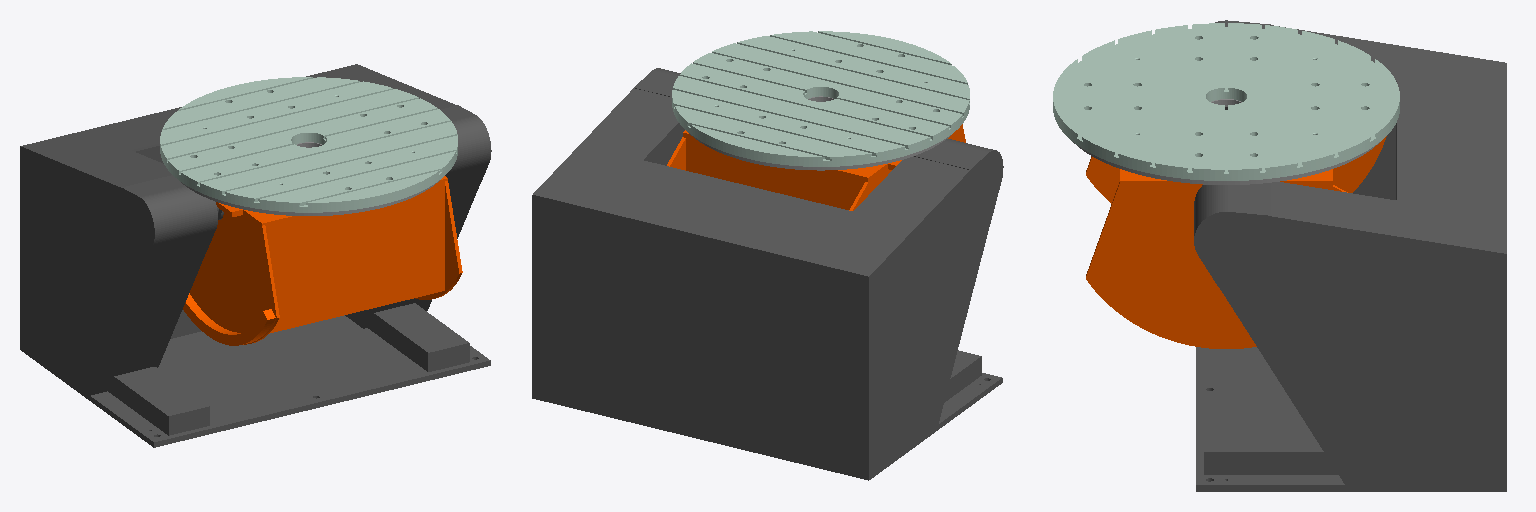
URDF robot description (mimic_master):
<?xml version="1.0" ?>
<!-- =================================================================================== -->
<!-- |    This document was autogenerated by xacro from src/mimic_support/urdf/master.xacro | -->
<!-- |    EDITING THIS FILE BY HAND IS NOT RECOMMENDED                                 | -->
<!-- =================================================================================== -->
<robot name="mimic_master">
  <!-- LINKS -->
  <link name="positioner_frame">
    <visual>
      <origin rpy="0 0 0" xyz="0 0 0"/>
      <geometry>
        <mesh filename="package://mimic_support/meshes/visual/positioner_fixed_nx.dae"/>
      </geometry>
    </visual>
    <collision>
      <origin rpy="0 0 0" xyz="0 0 0"/>
      <geometry>
        <mesh filename="package://mimic_support/meshes/collision/positioner_fixed_nx.stl"/>
      </geometry>
    </collision>
  </link>
  <link name="e1">
    <inertial>
      <origin rpy="0 0 0" xyz="0 0 0"/>
      <mass value="2"/>
      <inertia ixx="0.01" ixy="0" ixz="0" iyy="0.01" iyz="0" izz="0.01"/>
    </inertial>
    <visual>
      <origin rpy="0 0 0" xyz="0 0 0"/>
      <geometry>
        <mesh filename="package://mimic_support/meshes/visual/e1_nx.dae"/>
      </geometry>
    </visual>
    <collision>
      <origin rpy="0 0 0" xyz="0 0 0"/>
      <geometry>
        <mesh filename="package://mimic_support/meshes/collision/e1_nx.stl"/>
      </geometry>
    </collision>
  </link>
  <link name="e2">
    <inertial>
      <origin rpy="0 0 0" xyz="0 0 0"/>
      <mass value="2"/>
      <inertia ixx="0.01" ixy="0" ixz="0" iyy="0.01" iyz="0" izz="0.01"/>
    </inertial>
    <visual>
      <origin rpy="0 0 0" xyz="0 0 0"/>
      <geometry>
        <mesh filename="package://mimic_support/meshes/visual/e2_nx.dae"/>
      </geometry>
    </visual>
    <collision>
      <origin rpy="0 0 0" xyz="0 0 0"/>
      <geometry>
        <mesh filename="package://mimic_support/meshes/collision/e2_nx.stl"/>
      </geometry>
    </collision>
  </link>
  <!-- JOINTS -->
  <!-- joint e1 (E1) -->
  <joint name="joint_e1" type="revolute">
    <origin rpy="0 0 0" xyz="0.0 0.0 0.0"/>
    <parent link="positioner_frame"/>
    <child link="e1"/>
    <axis xyz="1 0 0"/>
    <limit effort="21.9" lower="-0.04363323129985824" upper="2.050761871093337" velocity="0.714"/>
  </joint>
  <joint name="joint_e2" type="revolute">
    <origin rpy="0 0 0" xyz="0 0 0"/>
    <parent link="e1"/>
    <child link="e2"/>
    <axis xyz="0 0 1"/>
    <limit effort="21.9" lower="-31.41592653589793" upper="31.41592653589793" velocity="0.2575"/>
  </joint>
  <!-- colours based on RAL values given in "FAQ - Colours of robot and robot
       controller", version "KUKA.Tifs | 2010-01-21 |YM| DefaultColorsRobotAndController.doc",
       downloaded 2015-07-18 from
       http://www.kuka.be/main/cservice/faqs/hardware/DefaultColorsRobotAndController.pdf

       all RAL colours converted using http://www.visual-graphics.de/en/customer-care/ral-colours
  -->
  <!-- LINKS -->
  <!-- base link -->
  <link name="base_link">
    <inertial>
      <origin rpy="0 0 0" xyz="0 0 0"/>
      <mass value="2"/>
      <inertia ixx="0.01" ixy="0" ixz="0" iyy="0.01" iyz="0" izz="0.01"/>
    </inertial>
    <visual>
      <origin rpy="0 0 0" xyz="0 0 0"/>
      <geometry>
        <mesh filename="package://kuka_kr20_support/meshes/kuka_kr20_r1810_2/visual/base_link.stl" scale="0.001 0.001 0.001"/>
      </geometry>
      <material name="">
        <color rgba="0.5058823529411764 0.47058823529411764 0.38823529411764707 1.0"/>
      </material>
    </visual>
    <collision>
      <origin rpy="0 0 0" xyz="0 0 0"/>
      <geometry>
        <mesh filename="package://kuka_kr20_support/meshes/kuka_kr20_r1810_2/collision/base_link.stl" scale="0.001 0.001 0.001"/>
      </geometry>
    </collision>
  </link>
  <!-- link 1 (A1) -->
  <link name="link_1">
    <inertial>
      <origin rpy="0 0 0" xyz="0 0 0"/>
      <mass value="2"/>
      <inertia ixx="0.01" ixy="0" ixz="0" iyy="0.01" iyz="0" izz="0.01"/>
    </inertial>
    <visual>
      <origin rpy="0 0 0" xyz="0 0 0"/>
      <geometry>
        <mesh filename="package://kuka_kr20_support/meshes/kuka_kr20_r1810_2/visual/link_1.stl" scale="0.001 0.001 0.001"/>
      </geometry>
      <material name="">
        <color rgba="0.9647058823529412 0.47058823529411764 0.1568627450980392 1.0"/>
      </material>
    </visual>
    <collision>
      <origin rpy="0 0 0" xyz="0 0 0"/>
      <geometry>
        <mesh filename="package://kuka_kr20_support/meshes/kuka_kr20_r1810_2/collision/link_1.stl" scale="0.001 0.001 0.001"/>
      </geometry>
    </collision>
  </link>
  <!-- link 2 -->
  <link name="link_2">
    <inertial>
      <origin rpy="0 0 0" xyz="0 0 0"/>
      <mass value="2"/>
      <inertia ixx="0.01" ixy="0" ixz="0" iyy="0.01" iyz="0" izz="0.01"/>
    </inertial>
    <visual>
      <origin rpy="0 0 0" xyz="0 0 0"/>
      <geometry>
        <mesh filename="package://kuka_kr20_support/meshes/kuka_kr20_r1810_2/visual/link_2.stl" scale="0.001 0.001 0.001"/>
      </geometry>
      <material name="">
        <color rgba="0.9647058823529412 0.47058823529411764 0.1568627450980392 1.0"/>
      </material>
    </visual>
    <collision>
      <origin rpy="0 0 0" xyz="0 0 0"/>
      <geometry>
        <mesh filename="package://kuka_kr20_support/meshes/kuka_kr20_r1810_2/collision/link_2.stl" scale="0.001 0.001 0.001"/>
      </geometry>
    </collision>
  </link>
  <!-- link 3 -->
  <link name="link_3">
    <inertial>
      <origin rpy="0 0 0" xyz="0 0 0"/>
      <mass value="2"/>
      <inertia ixx="0.01" ixy="0" ixz="0" iyy="0.01" iyz="0" izz="0.01"/>
    </inertial>
    <visual>
      <origin rpy="0 0 0" xyz="0 0 0"/>
      <geometry>
        <mesh filename="package://kuka_kr20_support/meshes/kuka_kr20_r1810_2/visual/link_3.stl" scale="0.001 0.001 0.001"/>
      </geometry>
      <material name="">
        <color rgba="0.9647058823529412 0.47058823529411764 0.1568627450980392 1.0"/>
      </material>
    </visual>
    <collision>
      <origin rpy="0 0 0" xyz="0 0 0"/>
      <geometry>
        <mesh filename="package://kuka_kr20_support/meshes/kuka_kr20_r1810_2/collision/link_3.stl" scale="0.001 0.001 0.001"/>
      </geometry>
    </collision>
  </link>
  <!-- link 4 -->
  <link name="link_4">
    <inertial>
      <origin rpy="0 0 0" xyz="0 0 0"/>
      <mass value="2"/>
      <inertia ixx="0.01" ixy="0" ixz="0" iyy="0.01" iyz="0" izz="0.01"/>
    </inertial>
    <visual>
      <origin rpy="0 0 0" xyz="0 0 0"/>
      <geometry>
        <mesh filename="package://kuka_kr20_support/meshes/kuka_kr20_r1810_2/visual/link_4.stl" scale="0.001 0.001 0.001"/>
      </geometry>
      <material name="">
        <color rgba="0.9647058823529412 0.47058823529411764 0.1568627450980392 1.0"/>
      </material>
    </visual>
    <collision>
      <origin rpy="0 0 0" xyz="0 0 0"/>
      <geometry>
        <mesh filename="package://kuka_kr20_support/meshes/kuka_kr20_r1810_2/collision/link_4.stl" scale="0.001 0.001 0.001"/>
      </geometry>
    </collision>
  </link>
  <!-- link 5 -->
  <link name="link_5">
    <inertial>
      <origin rpy="0 0 0" xyz="0 0 0"/>
      <mass value="2"/>
      <inertia ixx="0.01" ixy="0" ixz="0" iyy="0.01" iyz="0" izz="0.01"/>
    </inertial>
    <visual>
      <origin rpy="0 0 0" xyz="0 0 0"/>
      <geometry>
        <mesh filename="package://kuka_kr20_support/meshes/kuka_kr20_r1810_2/visual/link_5.stl" scale="0.001 0.001 0.001"/>
      </geometry>
      <material name="">
        <color rgba="0.9647058823529412 0.47058823529411764 0.1568627450980392 1.0"/>
      </material>
    </visual>
    <collision>
      <origin rpy="0 0 0" xyz="0 0 0"/>
      <geometry>
        <mesh filename="package://kuka_kr20_support/meshes/kuka_kr20_r1810_2/collision/link_5.stl" scale="0.001 0.001 0.001"/>
      </geometry>
    </collision>
  </link>
  <!-- link 6 -->
  <link name="link_6">
    <inertial>
      <origin rpy="0 0 0" xyz="0 0 0"/>
      <mass value="2"/>
      <inertia ixx="0.01" ixy="0" ixz="0" iyy="0.01" iyz="0" izz="0.01"/>
    </inertial>
    <visual>
      <origin rpy="0 0 0" xyz="0 0 0"/>
      <geometry>
        <mesh filename="package://kuka_kr20_support/meshes/kuka_kr20_r1810_2/visual/link_6.stl" scale="0.001 0.001 0.001"/>
      </geometry>
      <material name="">
        <color rgba="0.5058823529411764 0.47058823529411764 0.38823529411764707 1.0"/>
      </material>
    </visual>
    <collision>
      <origin rpy="0 0 0" xyz="0 0 0"/>
      <geometry>
        <mesh filename="package://kuka_kr20_support/meshes/kuka_kr20_r1810_2/collision/link_6.stl" scale="0.001 0.001 0.001"/>
      </geometry>
    </collision>
  </link>
  <!-- tool 0 -->
  <!-- This frame corresponds to the $FLANGE coordinate system in KUKA KRC controllers. -->
  <link name="tool0"/>
  <!-- END LINKS -->
  <!-- JOINTS -->
  <!-- joint 1 (A1) -->
  <joint name="joint_a1" type="revolute">
    <origin rpy="0 0 0" xyz="0 0 0.520"/>
    <parent link="base_link"/>
    <child link="link_1"/>
    <axis xyz="0 0 -1"/>
    <limit effort="2500" lower="-3.2288591161895095" upper="3.2288591161895095" velocity="3.490658503988659"/>
  </joint>
  <!-- joint 2 (A2) -->
  <joint name="joint_a2" type="revolute">
    <origin rpy="0 0 0" xyz="0.160 0 0"/>
    <parent link="link_1"/>
    <child link="link_2"/>
    <axis xyz="0 1 0"/>
    <limit effort="3100" lower="-3.2288591161895095" upper="1.1344640137963142" velocity="3.0543261909900767"/>
  </joint>
  <!-- joint 3 (A3) -->
  <joint name="joint_a3" type="revolute">
    <origin rpy="0 0 0" xyz="0.780 0 0.0"/>
    <parent link="link_2"/>
    <child link="link_3"/>
    <axis xyz="0 1 0"/>
    <limit effort="2200" lower="-2.4085543677521746" upper="3.0543261909900767" velocity="3.3161255787892263"/>
  </joint>
  <!-- joint 4 (A4) -->
  <joint name="joint_a4" type="revolute">
    <origin rpy="0 0 0" xyz="0.0 0 0.150"/>
    <parent link="link_3"/>
    <child link="link_4"/>
    <axis xyz="-1 0 0"/>
    <limit effort="500" lower="-6.1086523819801535" upper="6.1086523819801535" velocity="7.504915783575617"/>
  </joint>
  <!-- joint 5 (A5) -->
  <joint name="joint_a5" type="revolute">
    <origin rpy="0 0 0" xyz="0.860 0 0"/>
    <parent link="link_4"/>
    <child link="link_5"/>
    <axis xyz="0 1 0"/>
    <limit effort="500" lower="-2.2689280275926285" upper="2.2689280275926285" velocity="7.504915783575617"/>
  </joint>
  <!-- joint 6 (A6) -->
  <joint name="joint_a6" type="revolute">
    <origin rpy="0 0 0" xyz="0.153 0 0"/>
    <parent link="link_5"/>
    <child link="link_6"/>
    <axis xyz="-1 0 0"/>
    <limit effort="150" lower="-6.1086523819801535" upper="6.1086523819801535" velocity="10.995574287564276"/>
  </joint>
  <!-- tool frame - fixed frame -->
  <joint name="joint_a6-tool0" type="fixed">
    <parent link="link_6"/>
    <child link="tool0"/>
    <origin rpy="0 1.5707963267948966 0" xyz="0.0 0 0"/>
  </joint>
  <!-- END JOINTS -->
  <!-- ROS base_link to KUKA $ROBROOT coordinate system transform -->
  <link name="base"/>
  <joint name="base_link-base" type="fixed">
    <origin rpy="0 0 0" xyz="0 0 0"/>
    <parent link="base_link"/>
    <child link="base"/>
  </joint>
  <link name="master_base_link"/>
  <link name="positioner_side"/>
  <joint name="master_base_link-positioner_side_joint" type="fixed">
    <parent link="master_base_link"/>
    <child link="positioner_side"/>
    <origin rpy="0.0 0.0 0.0" xyz="0.0 0.0 0.0"/>
  </joint>
  <joint name="positioner_side-positioner_frame_joint" type="fixed">
    <parent link="positioner_side"/>
    <child link="positioner_frame"/>
    <origin rpy="0.0 0.0 0.0" xyz="0.48839 0.390 -0.195"/>
  </joint>
  <joint name="positioner_side-base_link" type="fixed">
    <parent link="positioner_side"/>
    <child link="base_link"/>
    <origin rpy="9.5e-05 -0.00184 -0.90717" xyz="-0.7260644 -0.509355 -0.603812"/>
  </joint>
</robot>

--- What the picture shows (computed from the rendered views, not written in the file) ---
3 views of the same robot in one strip: view 1: azimuth 30°, elevation 25°; view 2: azimuth 150°, elevation 25°; view 3: azimuth 270°, elevation 25° (orthographic).
Robot: mimic_master — 14 links, 13 joints (8 revolute, 5 fixed); root link master_base_link; default pose: all joints at 0.
Links seen in each view (by area): view 1: positioner_frame, e2, e1; view 2: positioner_frame, e2, e1; view 3: positioner_frame, e2, e1.
Link boxes in pixels (bbox=[...]): positioner_frame: bbox=[20, 64, 491, 447]; e2: bbox=[160, 77, 457, 215]; e1: bbox=[183, 176, 462, 345]; positioner_frame: bbox=[532, 68, 1003, 480]; e2: bbox=[672, 31, 969, 170]; e1: bbox=[667, 124, 965, 210]; positioner_frame: bbox=[1194, 20, 1506, 491]; e2: bbox=[1053, 23, 1399, 184]; e1: bbox=[1086, 107, 1386, 348].
Size in the robot's own frame: 1.63 by 1.64 by 1.19 metres.
Meshes: 10 distinct files referenced, 3 mesh visuals loaded (3 Collada DAE); not drawn: 7 (reference not matched to a file when rendering).